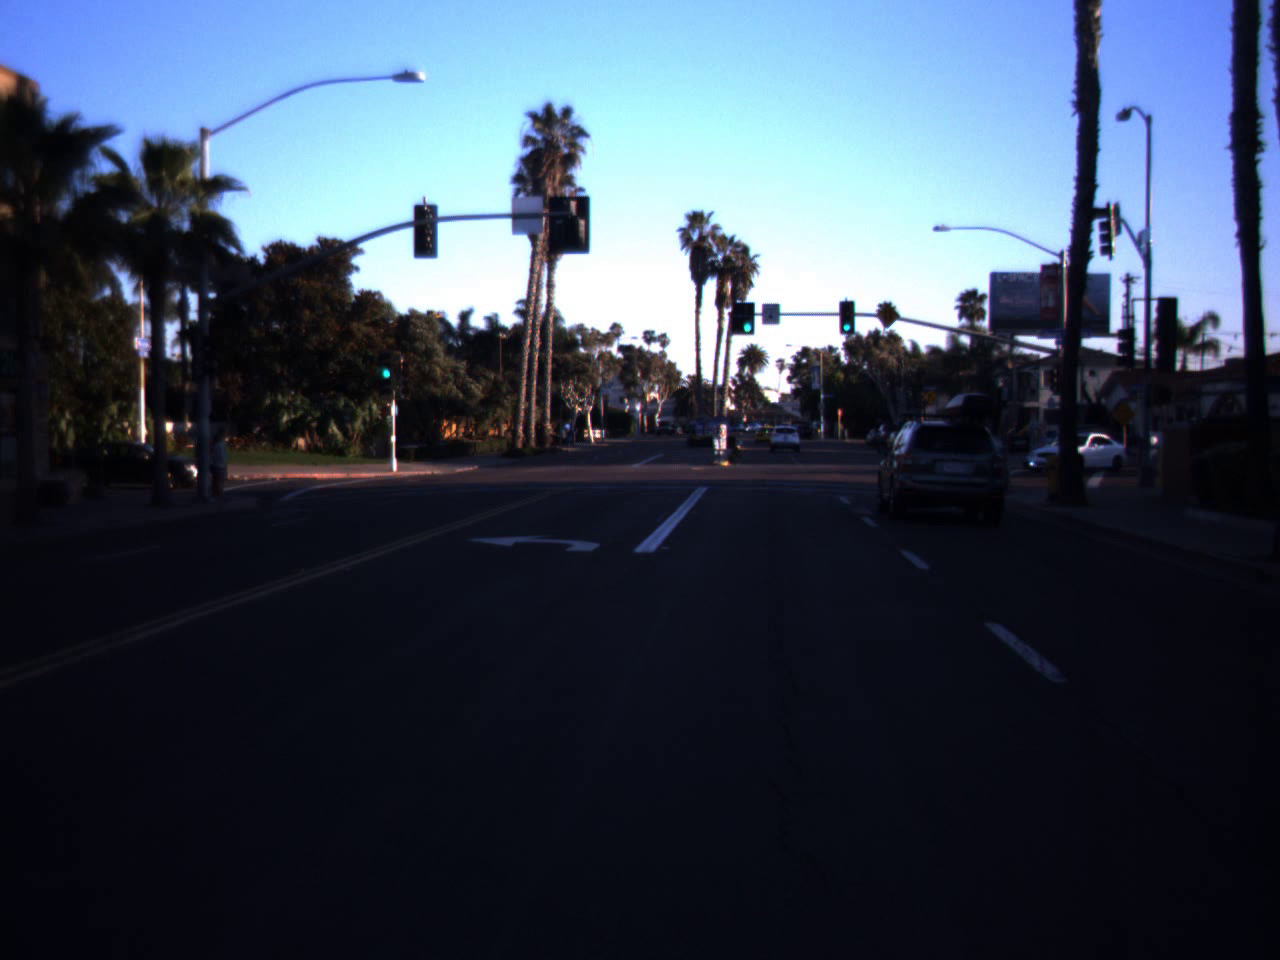go: (378, 345, 396, 380), (738, 299, 756, 334), (838, 312, 856, 332)
